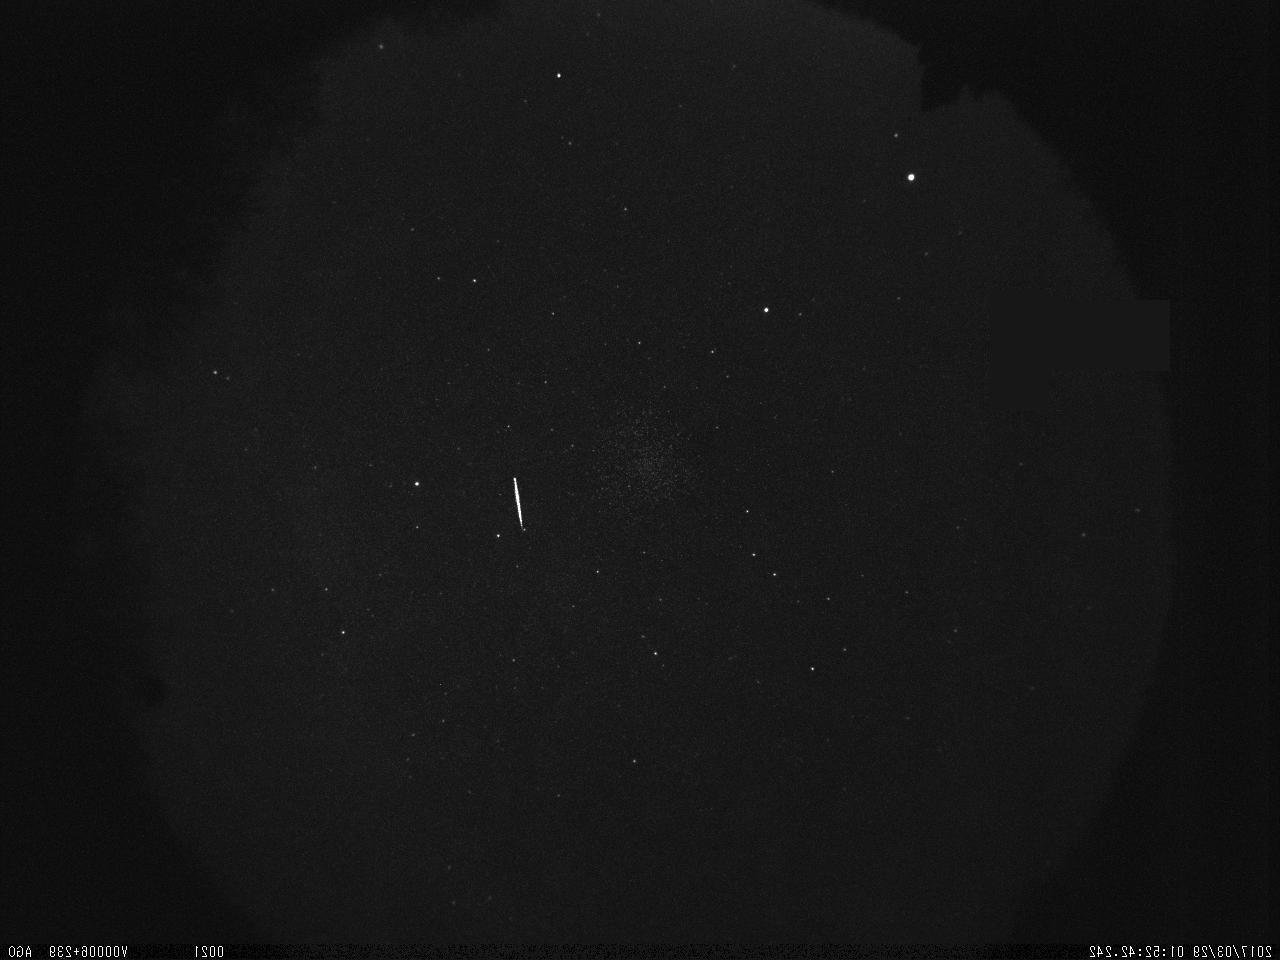meteor: (501, 461, 537, 539)
